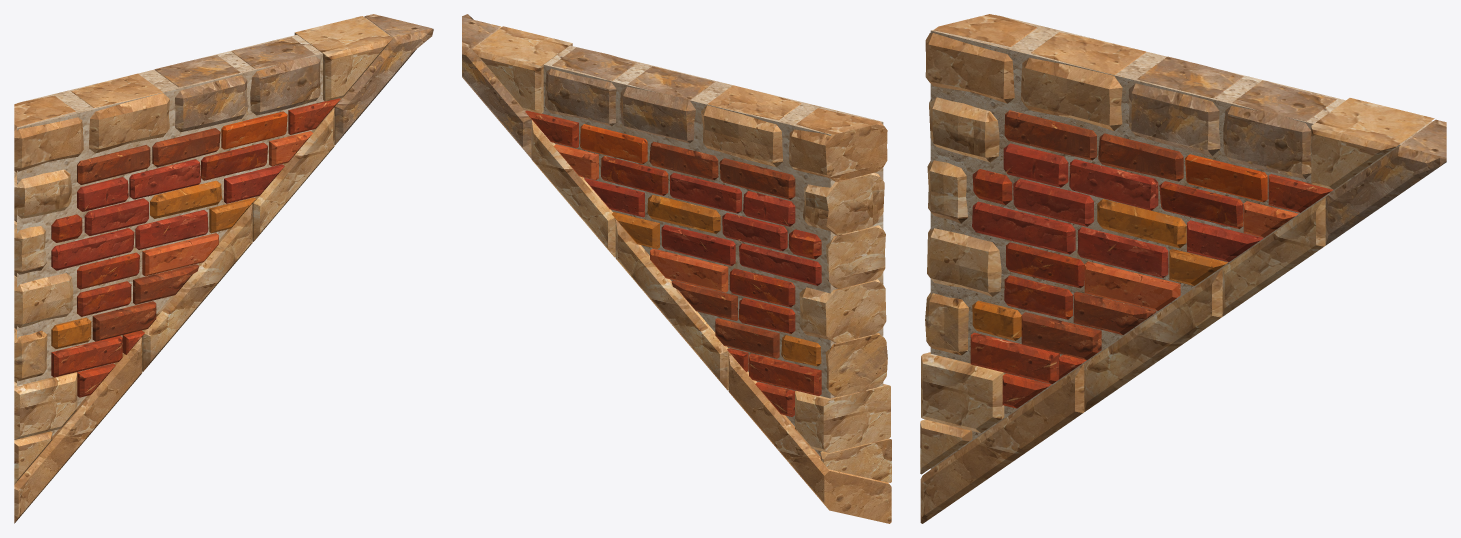
The model's file is sloped_wall_down__clay_brick.glb.
The picture shows the model from 3 angles, left to right: view 1: azimuth 30°, elevation 25°; view 2: azimuth 150°, elevation 25°; view 3: azimuth 330°, elevation 25°; orthographic projection. The views are drawn at different scales.
Visible parts, largest first — view 1: model; view 2: model; view 3: model.
Part boxes in pixels (left/top/right/bottom): model: left=14, top=14, right=433, bottom=523; model: left=462, top=14, right=891, bottom=523; model: left=920, top=14, right=1446, bottom=523.
Size of the model in its own units: 1.97 by 1.78 by 0.2865.
Materials: 12 (12 with a texture image).
